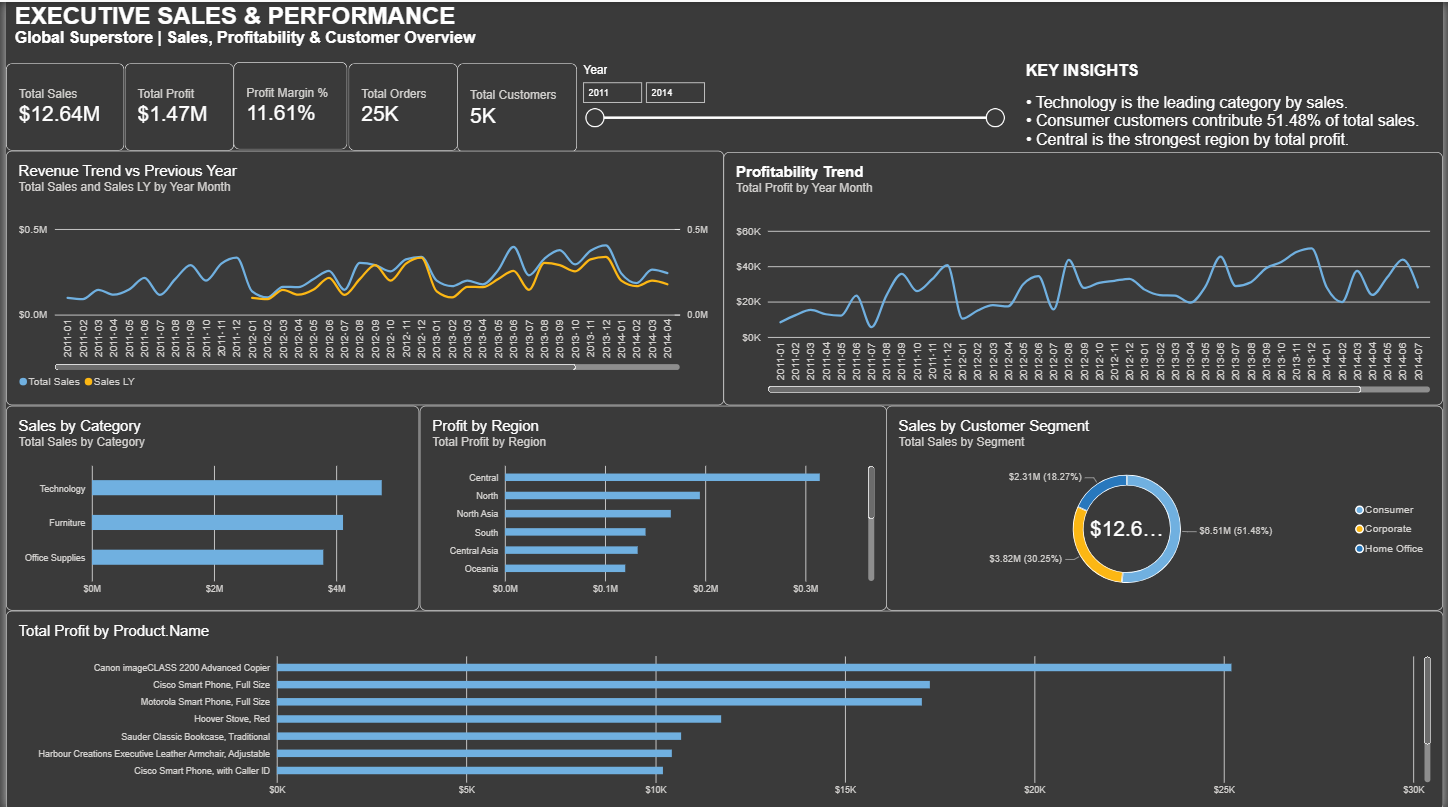

Layout of this report page (visuals, bound fields, positions):
{"tool":"powerbi","page":{"name":"Executive Overview","canvas":[1920,1080],"ordinal":0},"visuals":[{"type":"cardVisual","fields":{"Data":["_Measures.Total Sales"]},"box":[0,82.3,158.5,117.3],"z":0},{"type":"cardVisual","fields":{"Data":["_Measures.Total Profit"]},"box":[158.5,82.3,146.1,117.3],"z":1},{"type":"cardVisual","fields":{"Data":["_Measures.Profit Margin %"]},"box":[304.6,80.3,152.3,117.3],"z":2},{"type":"cardVisual","fields":{"Data":["_Measures.Total Orders"]},"box":[456.9,82.3,146.1,117.3],"z":3},{"type":"cardVisual","fields":{"Data":["_Measures.Total Customers"]},"box":[603.1,82.3,160.5,119.4],"z":4},{"type":"slicer","fields":{"Values":["DimDate.Year"]},"box":[763.6,82.3,574.3,142],"z":5},{"type":"lineChart","title":"Revenue Trend vs Previous Year","fields":{"Category":["DimDate.Year Month"],"Y":["_Measures.Total Sales"],"Y2":["_Measures.Sales LY"]},"box":[0,199.1,959.1,340.2],"z":6},{"type":"lineChart","title":"Profitability Trend","fields":{"Category":["DimDate.Year Month"],"Y":["_Measures.Total Profit"]},"box":[959.1,200.9,960.9,338.4],"z":7},{"type":"clusteredBarChart","title":"Sales by Category","fields":{"Y":["_Measures.Total Sales"],"Category":["DimProduct.Category"]},"box":[0,539.3,551.9,273.3],"z":8},{"type":"clusteredBarChart","title":"Profit by Region","fields":{"Category":["DimGeography.Region"],"Y":["_Measures.Total Profit"]},"box":[551.9,539.3,624.3,273.3],"z":9},{"type":"clusteredBarChart","fields":{"Category":["DimProduct.Product.Name"],"Y":["_Measures.Total Profit"]},"box":[0,812.5,1920.1,267.8],"z":10},{"type":"donutChart","title":"Sales by Customer Segment","fields":{"Category":["DimCustomer.Segment"],"Y":["_Measures.Total Sales"]},"box":[1176.3,539.3,743.8,273.3],"z":11},{"type":"textbox","box":[10.9,0,890.4,81.4],"z":14},{"type":"textbox","box":[1362.6,80.3,555.7,144.1],"z":15}]}

Visuals, with their boxes in screenshot pixels (x1, y1, x2, y2), scaled from the page's 1920x1080 canvas onto the 1448x807 screenshot:
cardVisual - _Measures.Total Sales: <bbox>0, 61, 120, 149</bbox>
cardVisual - _Measures.Total Profit: <bbox>120, 61, 230, 149</bbox>
cardVisual - _Measures.Profit Margin %: <bbox>230, 60, 345, 148</bbox>
cardVisual - _Measures.Total Orders: <bbox>345, 61, 455, 149</bbox>
cardVisual - _Measures.Total Customers: <bbox>455, 61, 576, 151</bbox>
slicer - DimDate.Year: <bbox>576, 61, 1009, 168</bbox>
"Revenue Trend vs Previous Year" lineChart: <bbox>0, 149, 723, 403</bbox>
"Profitability Trend" lineChart: <bbox>723, 150, 1447, 403</bbox>
"Sales by Category" clusteredBarChart: <bbox>0, 403, 416, 607</bbox>
"Profit by Region" clusteredBarChart: <bbox>416, 403, 887, 607</bbox>
clusteredBarChart - DimProduct.Product.Name x _Measures.Total Profit: <bbox>0, 607, 1447, 806</bbox>
"Sales by Customer Segment" donutChart: <bbox>887, 403, 1447, 607</bbox>
textbox: <bbox>8, 0, 680, 61</bbox>
textbox: <bbox>1028, 60, 1447, 168</bbox>
